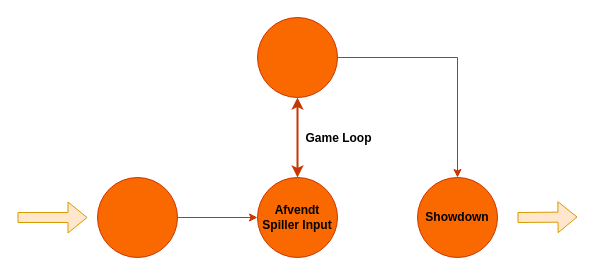
The diagram is 594 pixels wide and 275 high, and some of its shapes have lost their labels. The shapes that lost their labels are listed below. From the top down, each one's centre as x and y in pixels, then its label:
(x=297, y=57): Reagér på Spiller Input
(x=137, y=217): Start Spil
